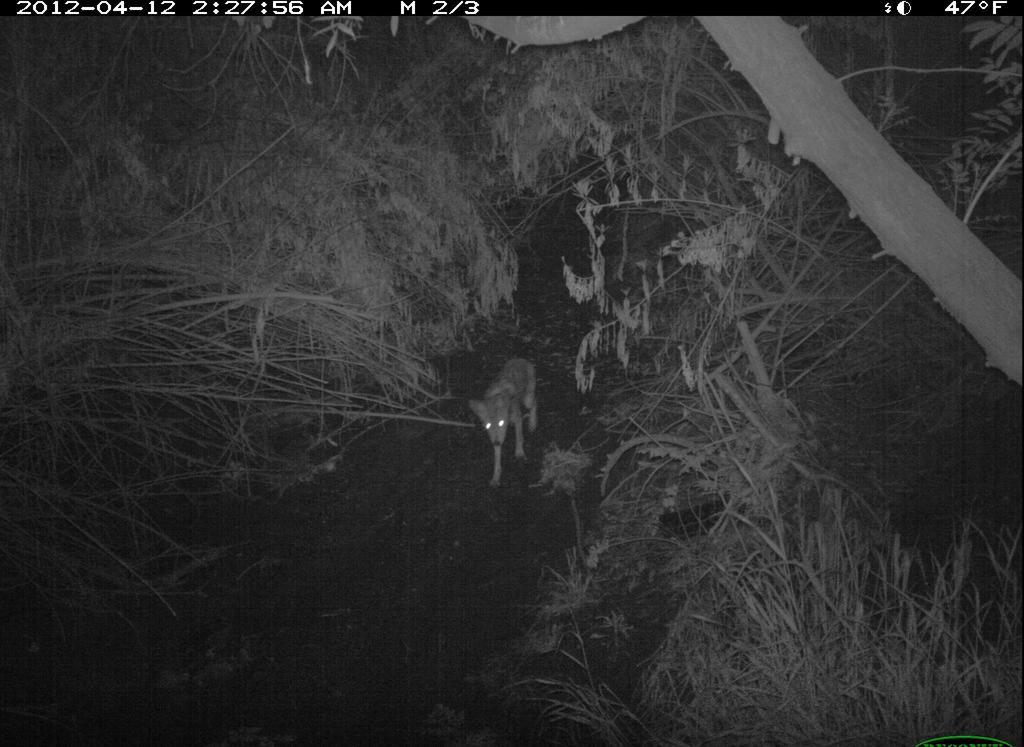coyote: (463, 345, 562, 500)
